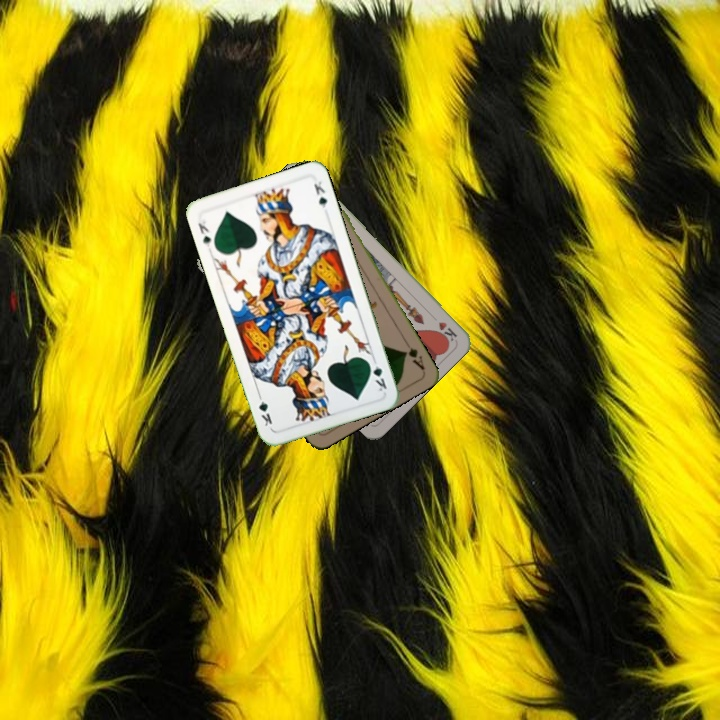GA: (400, 336, 427, 373)
GK: (364, 355, 389, 394), (194, 217, 214, 250)
HK: (434, 318, 460, 344)
